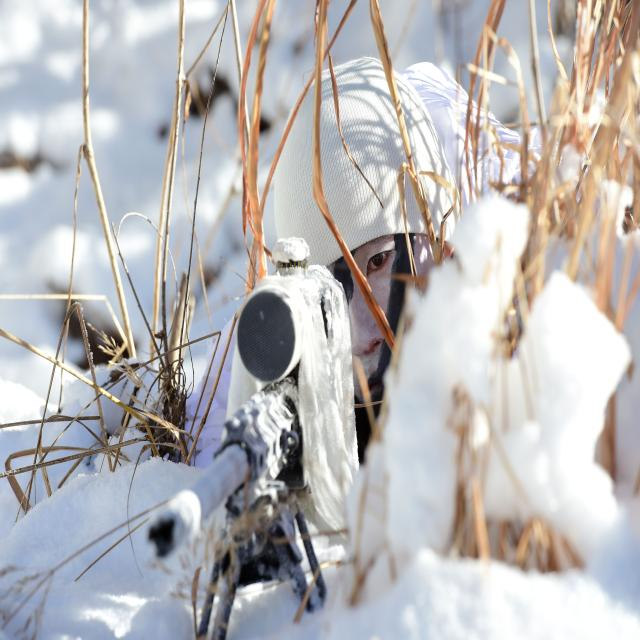Human: (144, 56, 616, 573)
